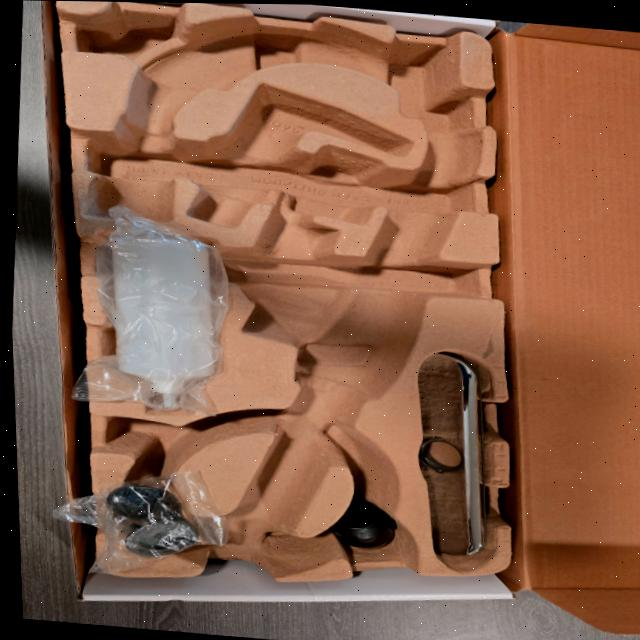1m: (81, 21, 477, 577)
2m: (189, 82, 411, 226)
3: (110, 233, 217, 409)
4: (418, 352, 485, 552)
5: (328, 500, 398, 548)
6m: (107, 415, 233, 470)
7: (51, 471, 226, 572)
